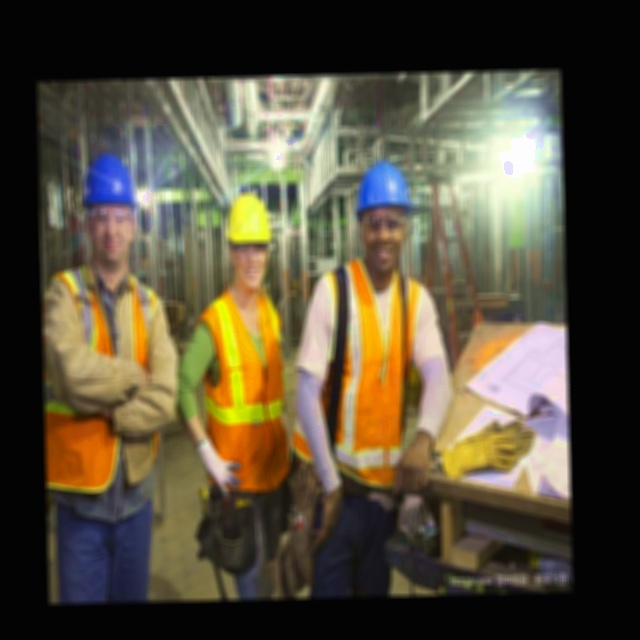Con_Casco: (354, 157, 414, 271), (224, 192, 273, 291)
Con_Chaleco: (297, 261, 433, 470), (190, 292, 293, 487)
